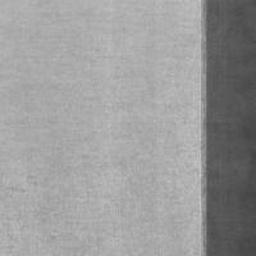Welding line: (200, 0, 207, 256)
